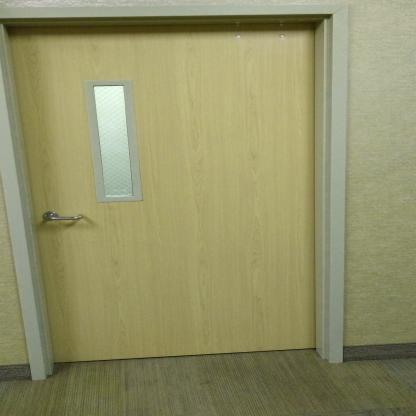door: (37, 23, 316, 358)
lever: (41, 212, 83, 224)
